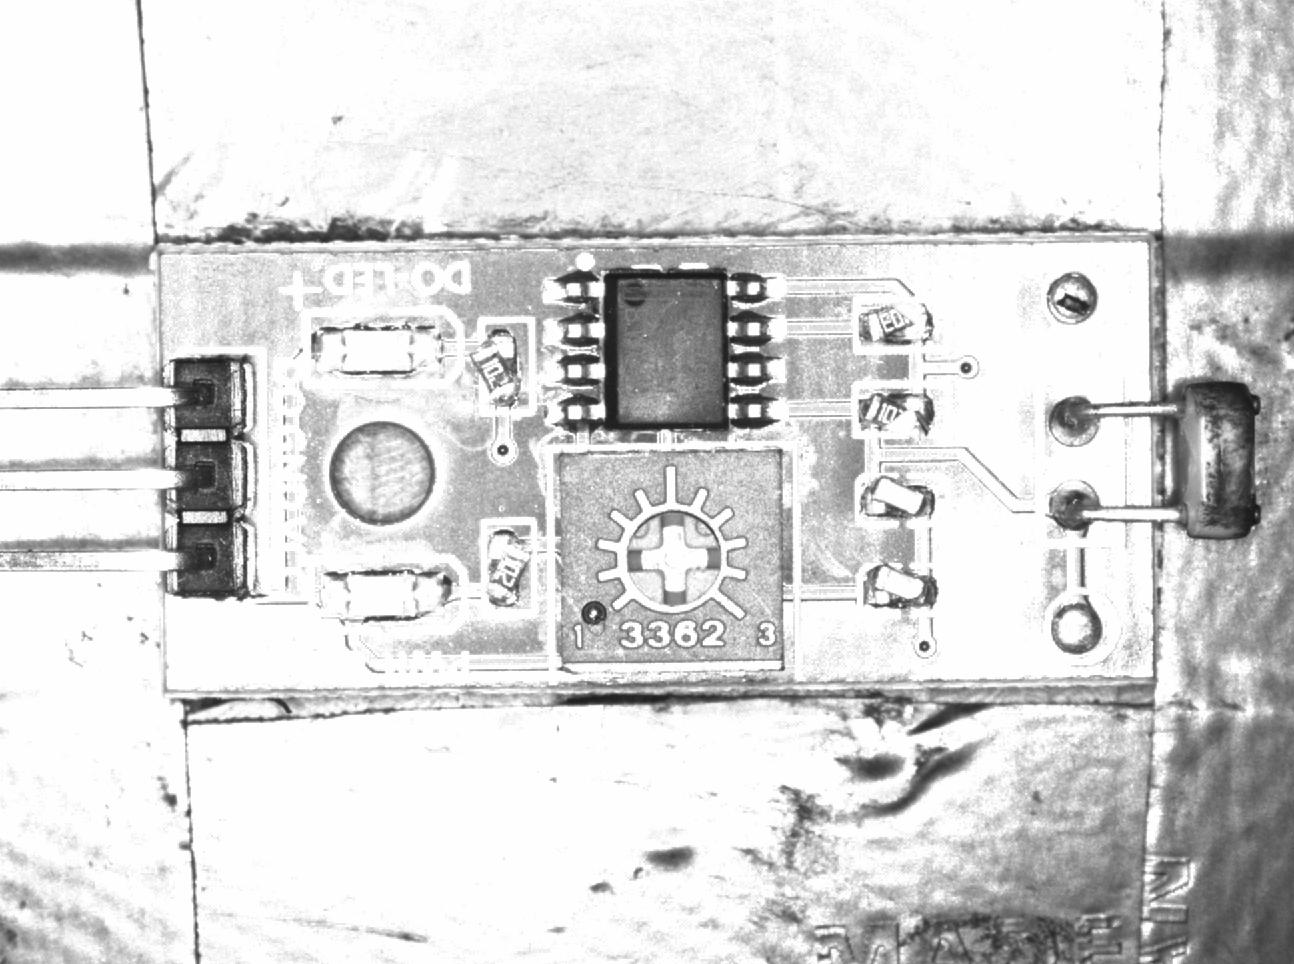lifted: (473, 319, 541, 418), (852, 382, 946, 441), (852, 470, 945, 527), (480, 517, 535, 613), (856, 562, 940, 617), (854, 295, 941, 347)
